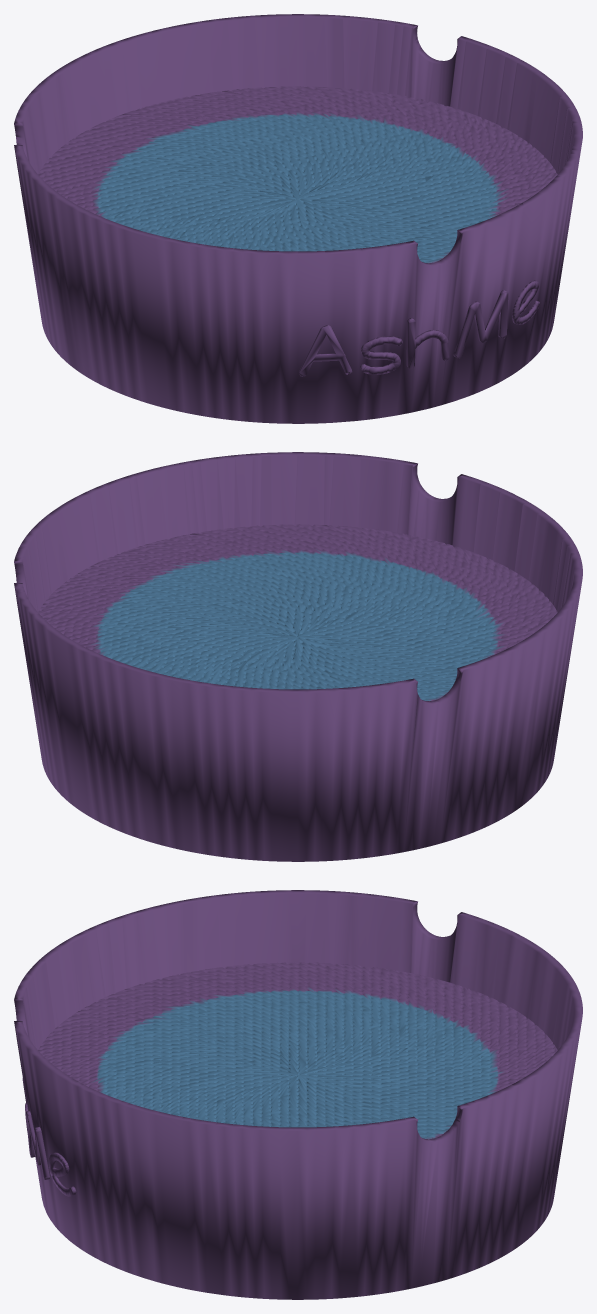
The model's file is ashme-tray.glb.
3 views of the same model, one above another, from view 1: azimuth 30°, elevation 25°; view 2: azimuth 150°, elevation 25°; view 3: azimuth 270°, elevation 25° (orthographic).
Parts seen in each view (by area): view 1: AshMe disposable tray; view 2: AshMe disposable tray; view 3: AshMe disposable tray.
Boxes of the visible parts, x1,y1,x2,y2 form: AshMe disposable tray: (14, 14, 582, 423); AshMe disposable tray: (14, 452, 582, 861); AshMe disposable tray: (14, 890, 582, 1299).
Size of the model in its own units: 0.1 by 0.035 by 0.0998.
